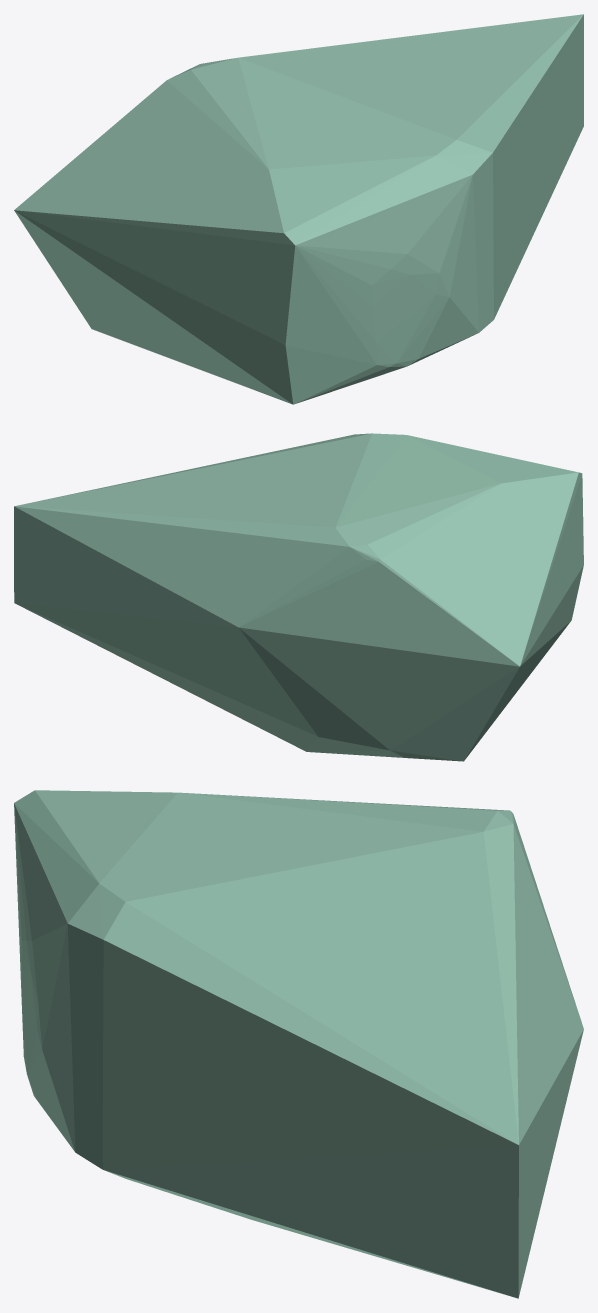
Rendered from serviceTool_extractor_a01.glb.
3 renders of one model, top to bottom at view 1: azimuth 30°, elevation 25°; view 2: azimuth 150°, elevation 25°; view 3: azimuth 270°, elevation 25°, orthographic. The views are drawn at different scales.
Parts seen in each view (by area): view 1: geometry_0; view 2: geometry_0; view 3: geometry_0.
Boxes of the visible parts, x1,y1,x2,y2 form: geometry_0: (14,14,583,404); geometry_0: (14,433,583,761); geometry_0: (14,790,583,1298).
Bounding box in the file's own units: 0.4664 × 0.2039 × 0.2906.
